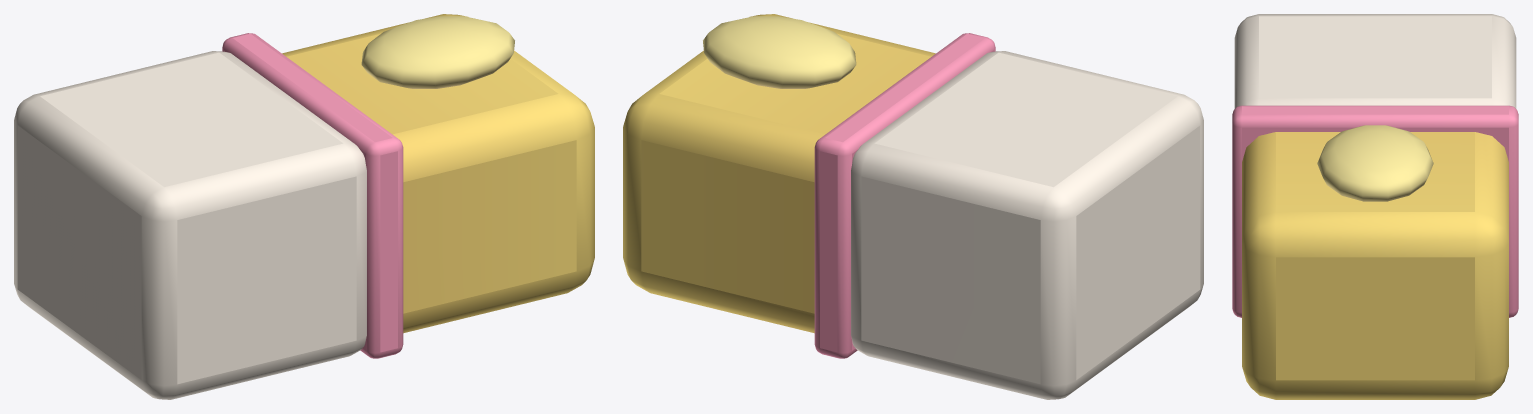
Rendered from butter.glb.
The picture shows the model from 3 angles, left to right: view 1: azimuth 30°, elevation 25°; view 2: azimuth 150°, elevation 25°; view 3: azimuth 270°, elevation 25°; orthographic projection. The views are drawn at different scales.
Parts seen in each view (by area): view 1: wrapper, stick, band, curl; view 2: wrapper, stick, band, curl; view 3: stick, wrapper, band, curl.
Part boxes in pixels (box(x1,y1,x2,y2)): wrapper: box(14, 51, 366, 399); stick: box(282, 14, 594, 333); band: box(222, 33, 403, 358); curl: box(361, 16, 514, 88); wrapper: box(851, 51, 1203, 399); stick: box(623, 14, 935, 333); band: box(814, 33, 995, 358); curl: box(703, 16, 856, 88); stick: box(1242, 132, 1508, 399); wrapper: box(1234, 14, 1516, 108); band: box(1232, 105, 1518, 317); curl: box(1317, 125, 1433, 201).
Bounding box in the file's own units: 1.02 × 0.52 × 0.59.
